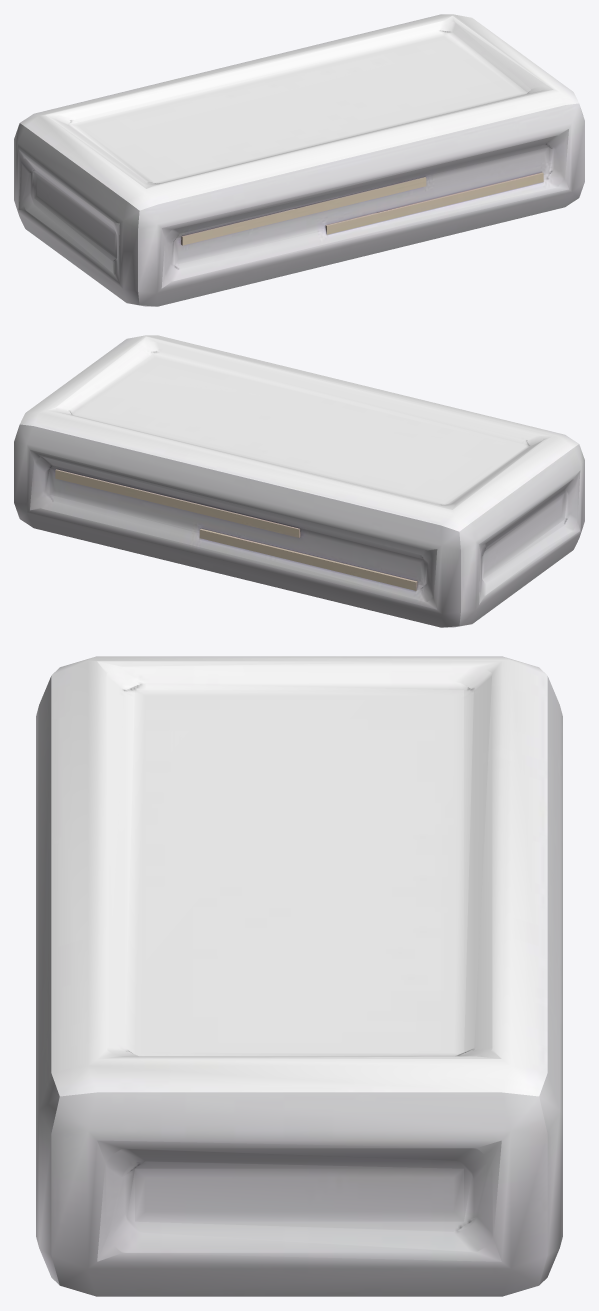
File: kalas2.glb
3 views of the same model, one above another, from view 1: azimuth 30°, elevation 25°; view 2: azimuth 150°, elevation 25°; view 3: azimuth 270°, elevation 25° (orthographic). The views are drawn at different scales.
Parts seen in each view (by area): view 1: kalas2; view 2: kalas2; view 3: kalas2.
Boxes of the visible parts, bbox=[...] form: kalas2: bbox=[14, 14, 584, 306]; kalas2: bbox=[14, 335, 584, 627]; kalas2: bbox=[36, 656, 562, 1296].
Size of the model in its own units: 3.07 by 0.7402 by 1.52.
1 material, 1 textured.
